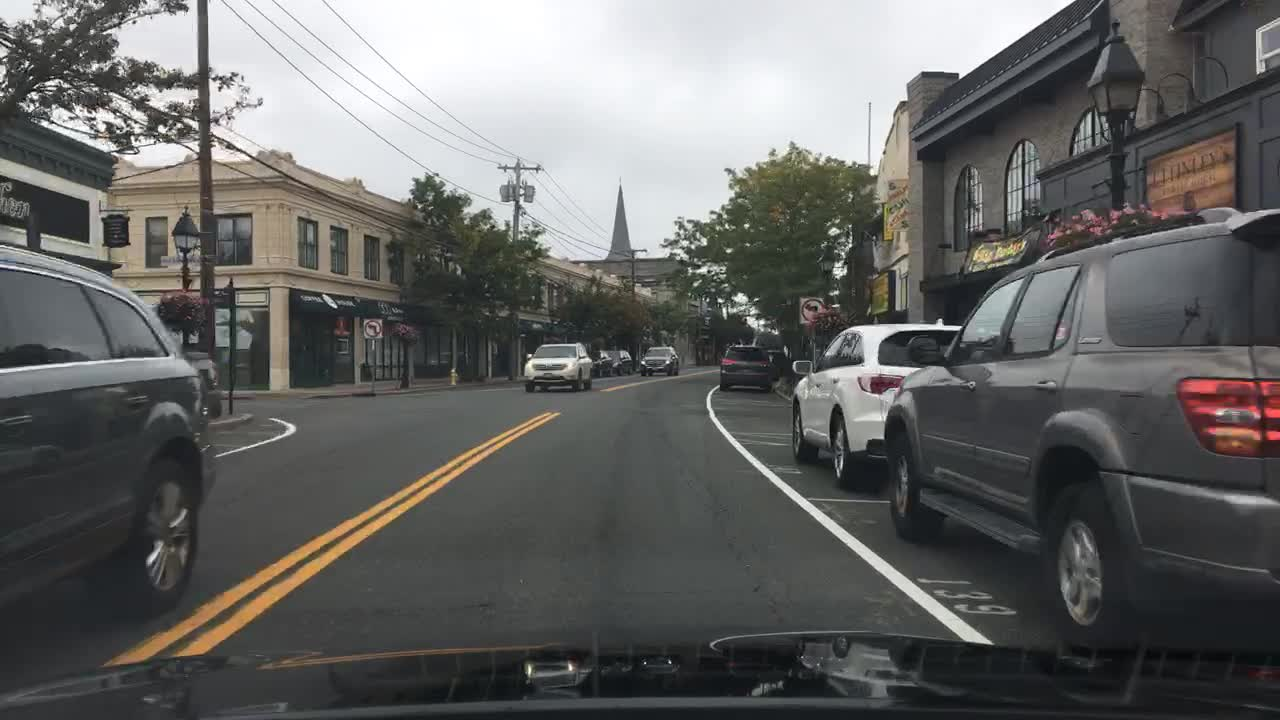car: (880, 206, 1280, 654), (0, 243, 217, 622), (791, 322, 971, 487), (521, 342, 596, 393), (716, 341, 776, 392), (638, 347, 681, 378), (583, 349, 613, 379), (607, 349, 635, 375)
traffic sign: (801, 298, 828, 322), (363, 316, 384, 339)
